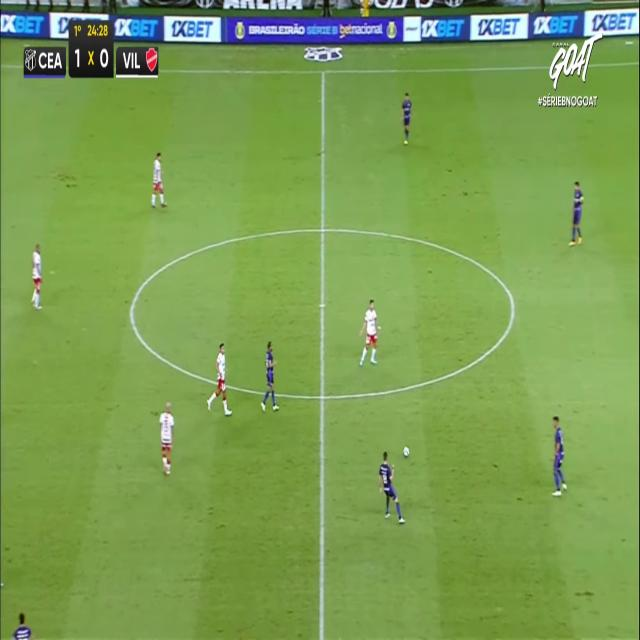ball: (403, 445, 410, 456)
player: (378, 449, 405, 522), (207, 342, 232, 415), (359, 298, 381, 365), (261, 339, 279, 410), (552, 416, 567, 495), (157, 401, 173, 474), (569, 180, 583, 244), (151, 152, 167, 207), (30, 242, 42, 309), (11, 612, 36, 640), (401, 91, 412, 144)
